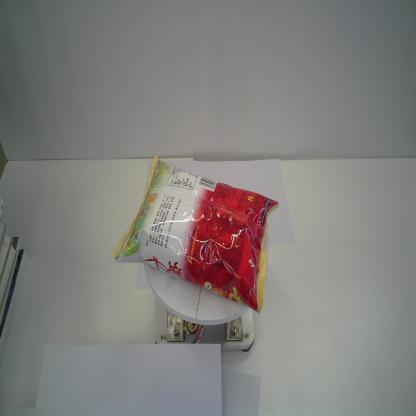Puffed Food: (111, 152, 281, 316)
